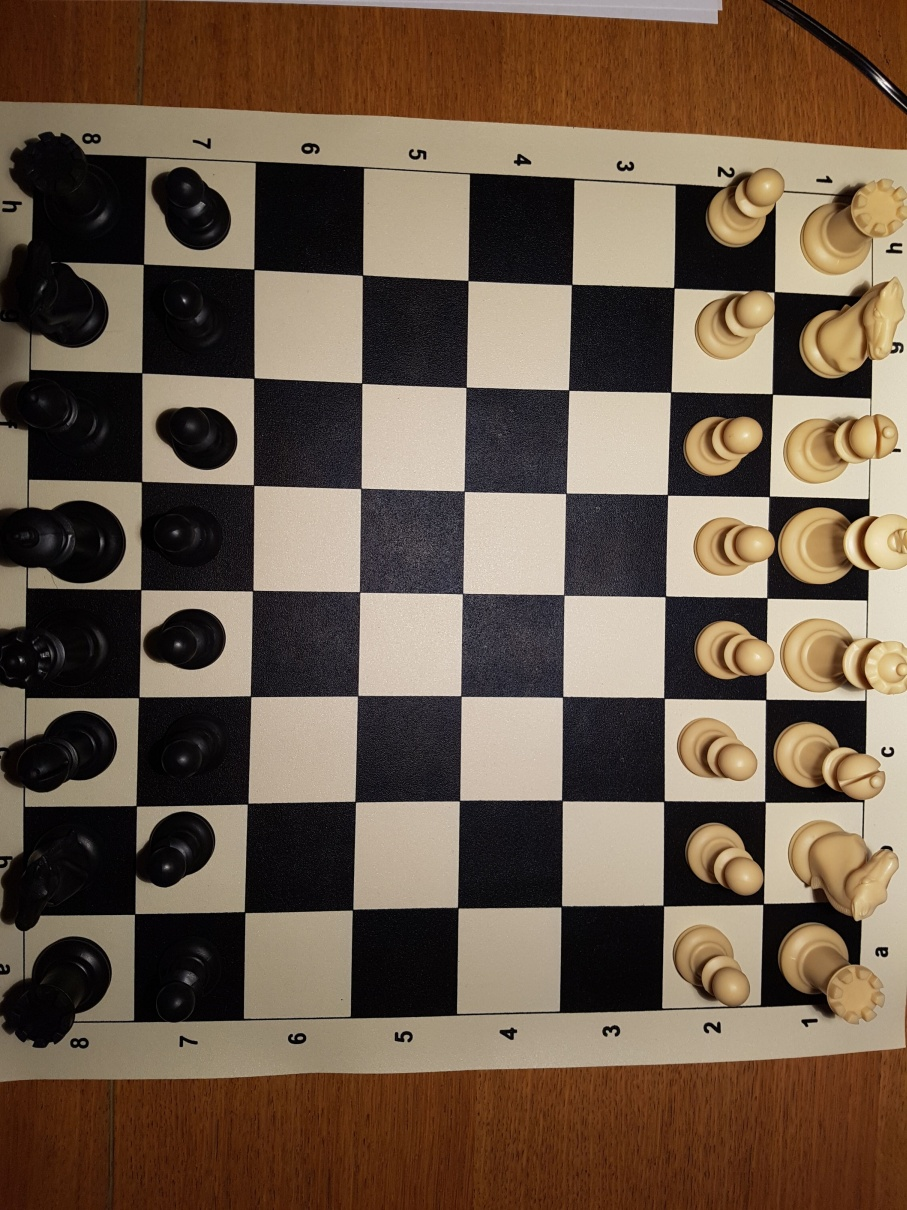chess_bishop: (4, 381, 123, 466), (8, 707, 119, 794), (775, 721, 886, 800), (785, 416, 898, 487)
chess_king: (1, 495, 127, 584), (776, 506, 907, 584)
chess_knight: (3, 818, 109, 935), (784, 824, 897, 919), (803, 276, 904, 381), (11, 246, 109, 349)
chess_pawn: (699, 167, 784, 252), (673, 924, 752, 1010), (152, 933, 222, 1022), (684, 819, 763, 896), (161, 167, 233, 251), (692, 290, 776, 361), (141, 813, 220, 888), (678, 716, 758, 784), (682, 411, 763, 477), (161, 281, 229, 355), (696, 619, 774, 683), (692, 518, 775, 575), (151, 511, 225, 572), (164, 406, 235, 467), (161, 610, 228, 671), (156, 718, 221, 780)
chess_queen: (782, 619, 907, 698), (1, 617, 122, 688)
chess_rook: (13, 128, 120, 242), (776, 922, 885, 1028), (11, 934, 111, 1048), (799, 181, 907, 273)
